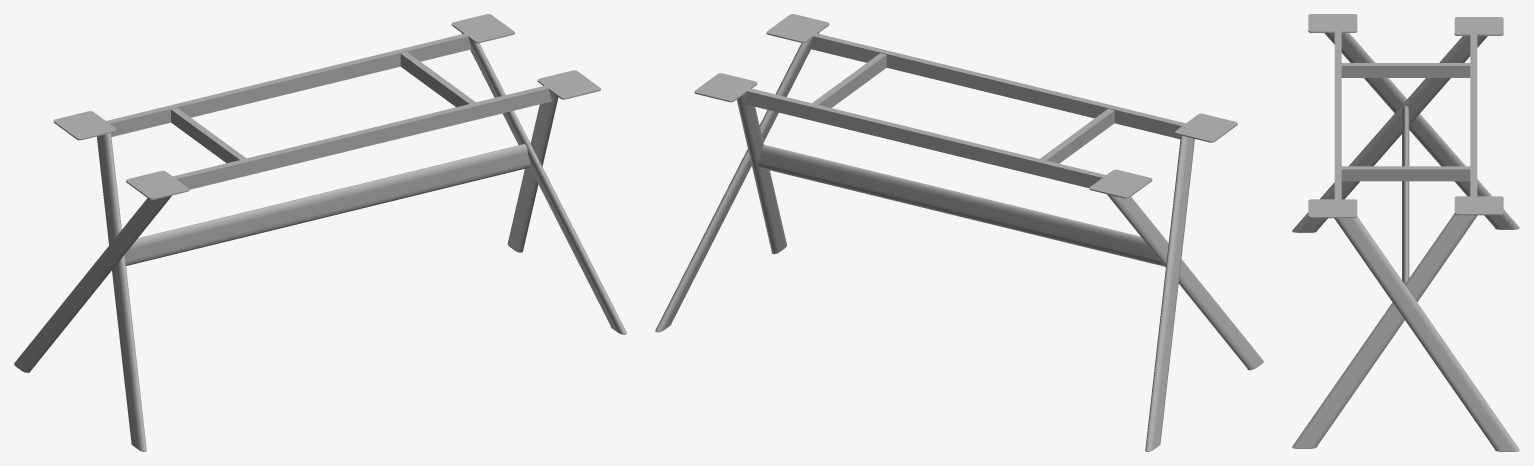
Rendered from BGID01894.glb.
The picture shows the model from 3 angles, left to right: view 1: azimuth 30°, elevation 25°; view 2: azimuth 150°, elevation 25°; view 3: azimuth 270°, elevation 25°; orthographic projection. The views are drawn at different scales.
Parts seen in each view (by area): view 1: BP_BGID01894; view 2: BP_BGID01894; view 3: BP_BGID01894.
Part boxes in pixels (x1,y1,x2,y2): BP_BGID01894: (14,14,626,451); BP_BGID01894: (655,14,1263,451); BP_BGID01894: (1292,14,1519,451).
Bounding box in the file's own units: 1.52 × 0.705 × 0.6497.
Materials: 1 (1 with a texture image).
